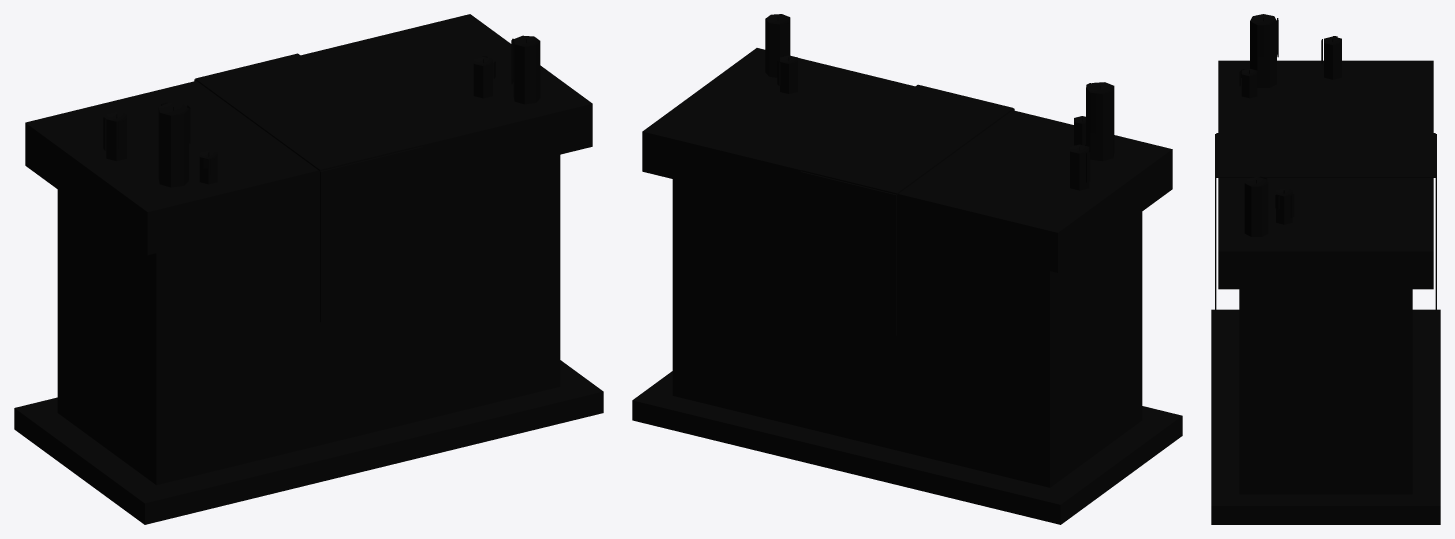
File: SM_altar_stone.fbx
3 views of the same model, side by side, from view 1: azimuth 30°, elevation 25°; view 2: azimuth 150°, elevation 25°; view 3: azimuth 270°, elevation 25° (orthographic). The views are drawn at different scales.
Parts seen in each view (by area): view 1: altar_stone; view 2: altar_stone; view 3: altar_stone.
Part boxes in pixels (left/top/right/bottom): altar_stone: left=14, top=14, right=603, bottom=524; altar_stone: left=632, top=14, right=1182, bottom=524; altar_stone: left=1211, top=14, right=1440, bottom=524.
Size of the model in its own units: 1.34 by 1.07 by 0.66.
